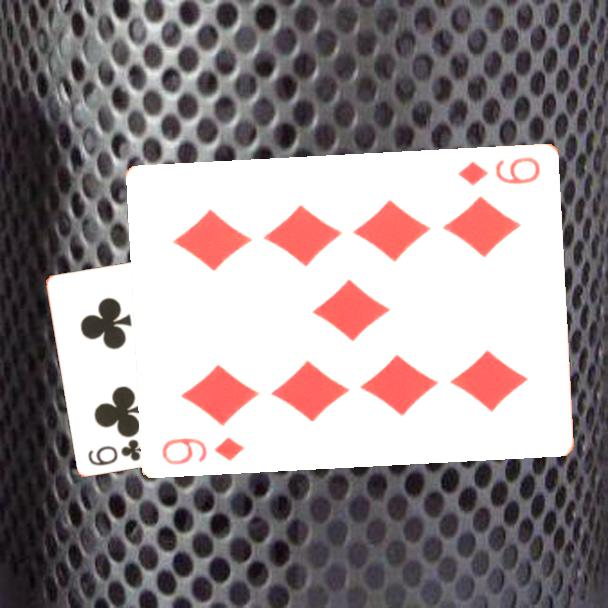c06: (85, 436, 146, 468)
d09: (455, 153, 543, 188), (159, 433, 247, 467)
